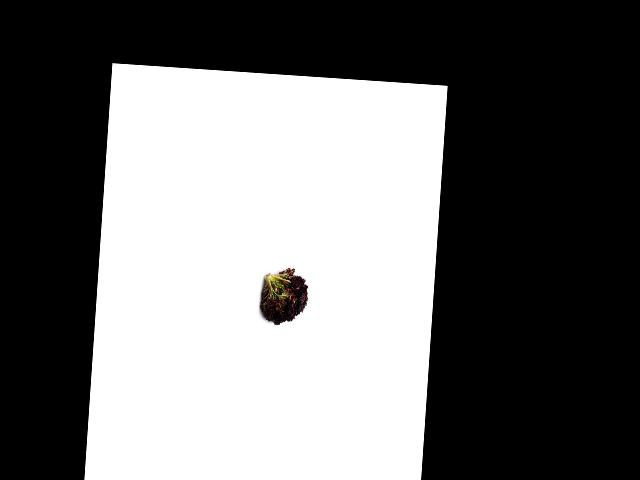lettuce: (255, 269, 311, 329)
